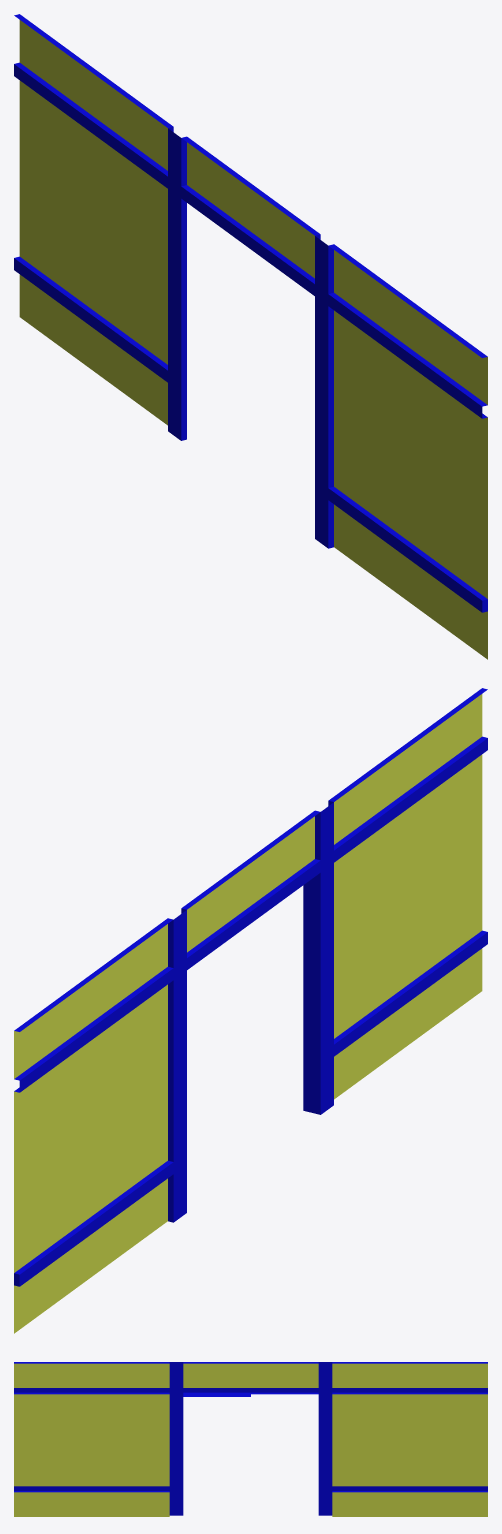
File: MSH_A_Wall_East.glb
3 views of the same model, one above another, from view 1: azimuth 30°, elevation 25°; view 2: azimuth 150°, elevation 25°; view 3: azimuth 270°, elevation 25° (orthographic). The views are drawn at different scales.
Parts seen in each view (by area): view 1: Wall Room A-Est; view 2: Wall Room A-Est; view 3: Wall Room A-Est.
Boxes of the visible parts, x1=… form: Wall Room A-Est: x1=14, y1=14, x2=487, y2=659; Wall Room A-Est: x1=14, y1=688, x2=487, y2=1333; Wall Room A-Est: x1=14, y1=1362, x2=487, y2=1516.
Size of the model in its own units: 0.15 by 2.5 by 7.
